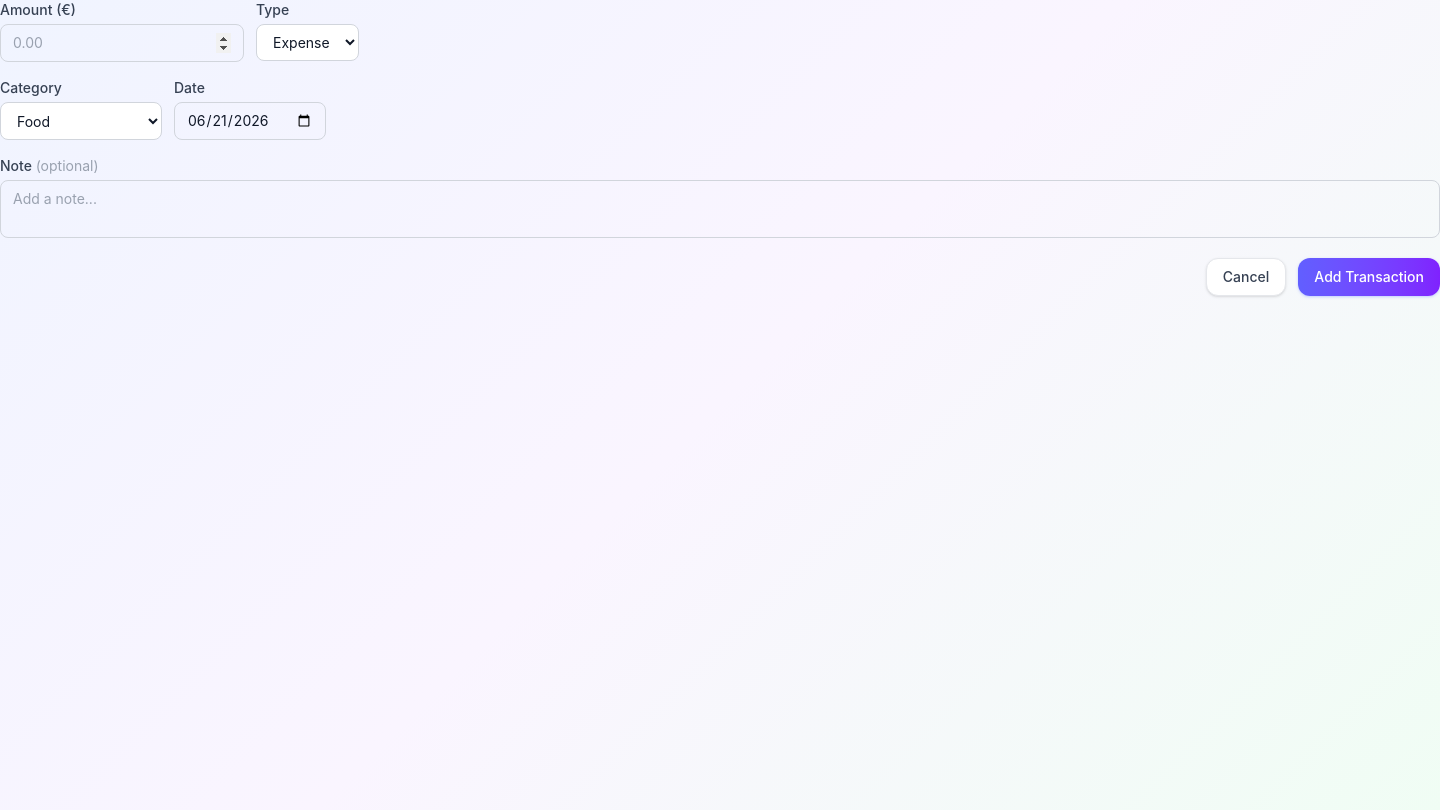
Test: TransactionForm — create mode › shows validation error when amount is missing
This screenshot has width=1440, height=810.
Click the button "Add Transaction" at (1369, 277), box [1298,258,1439,296]
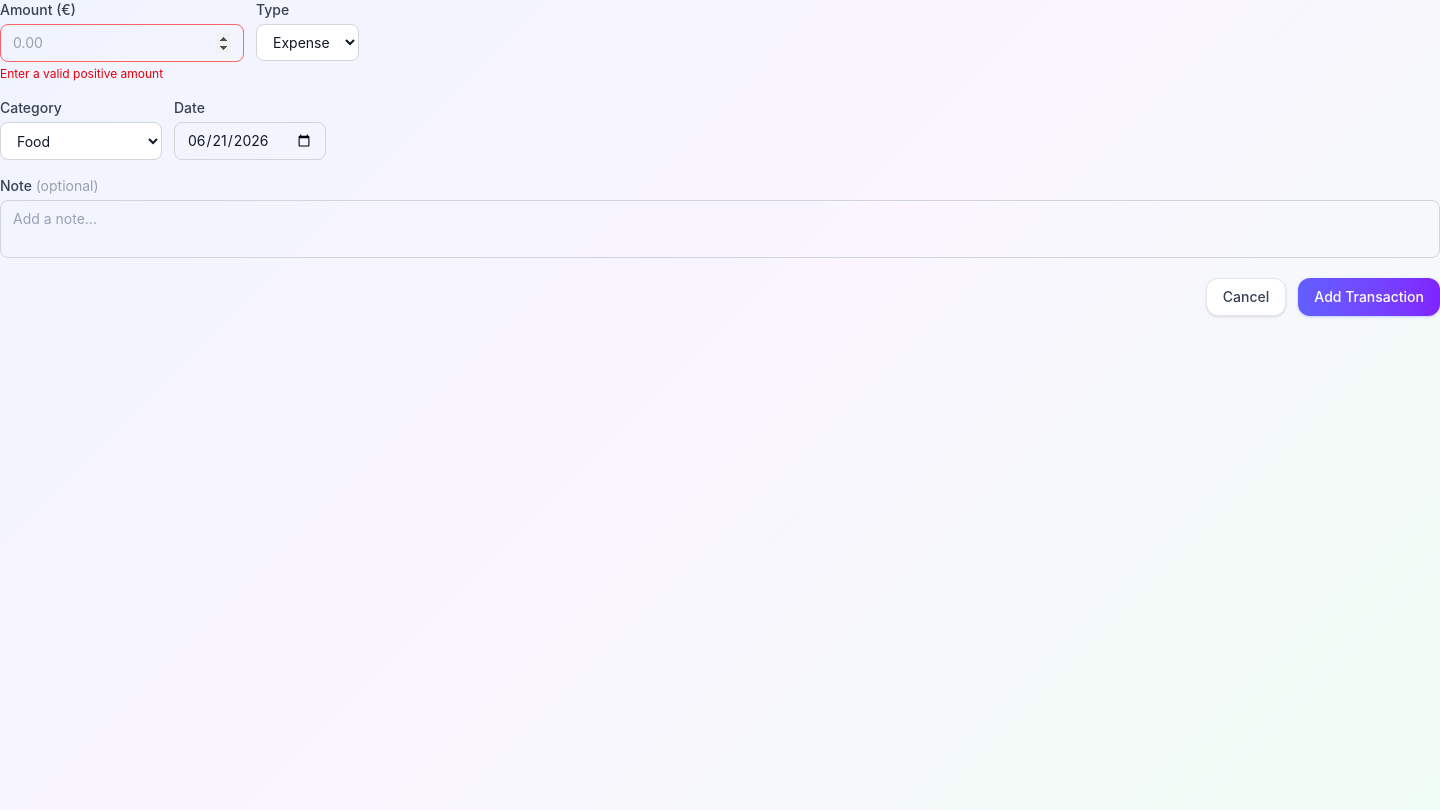
Result: the text "Enter a valid positive amount" is shown at [0,66,163,81]
